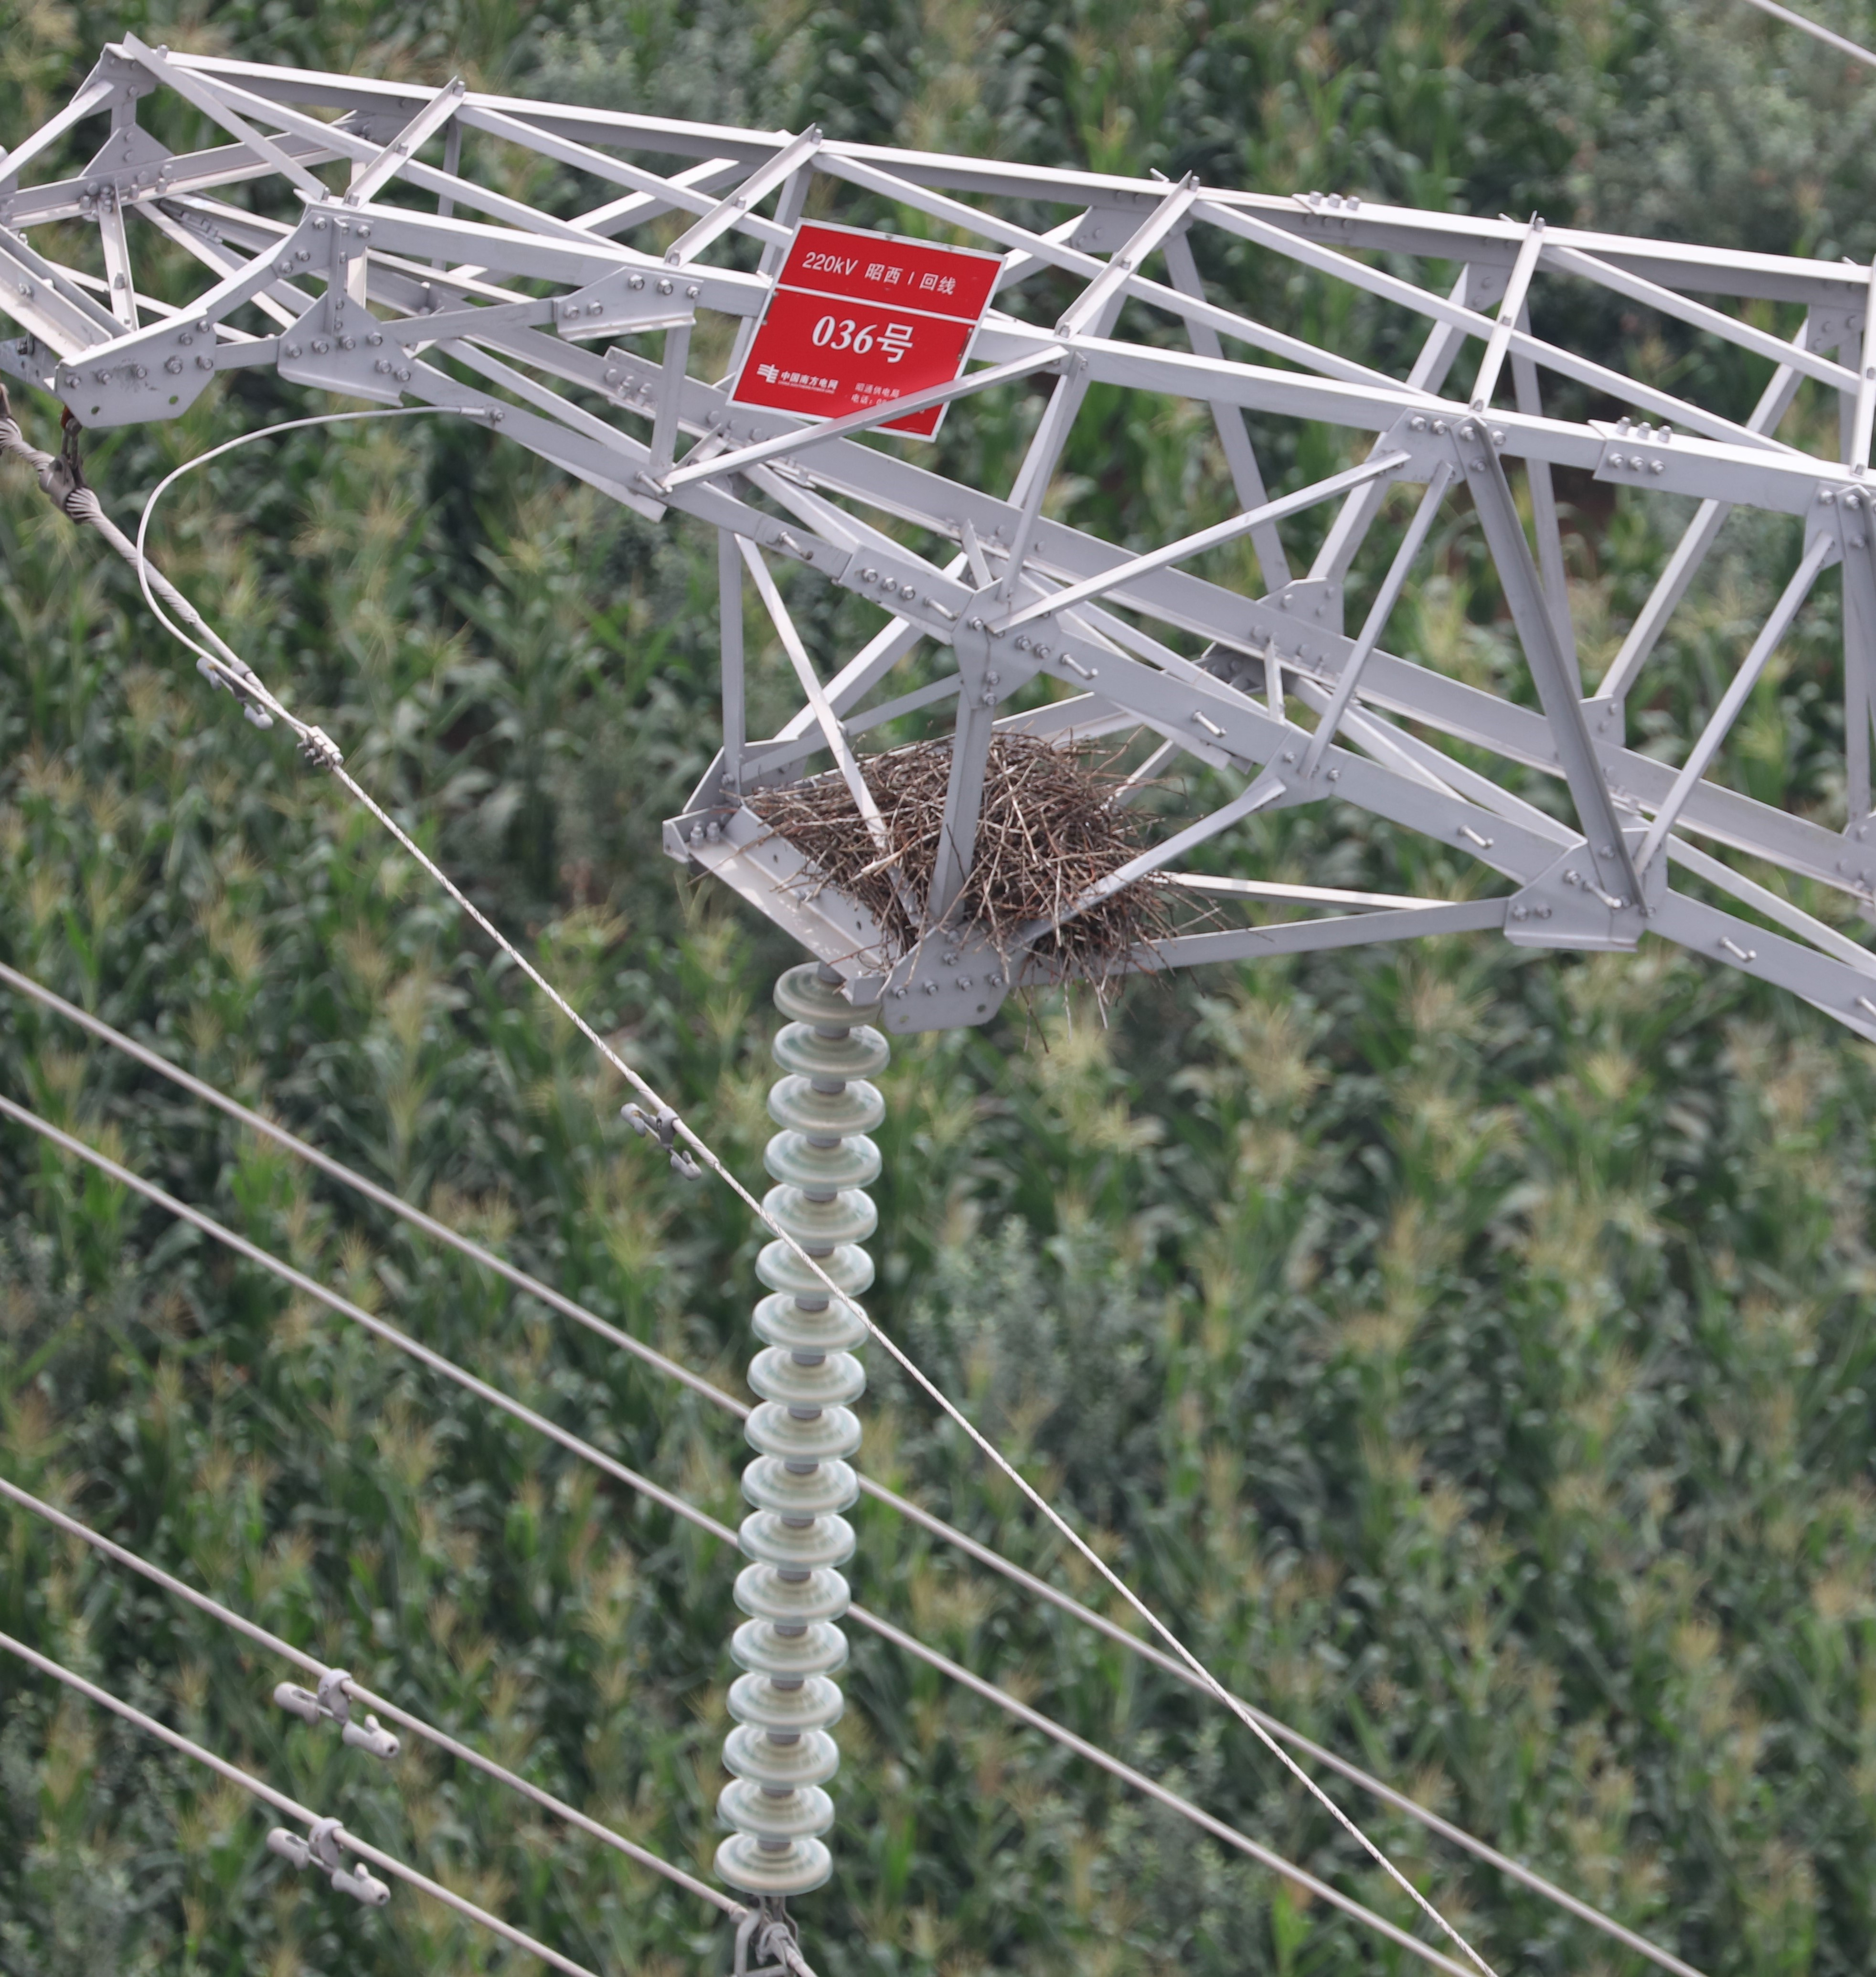niaowo: (732, 698, 1204, 1014)
